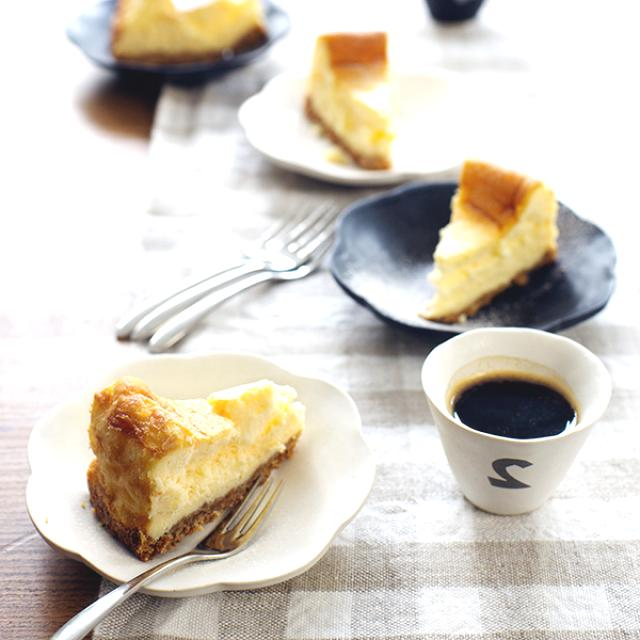cheesecake: (61, 352, 309, 563)
